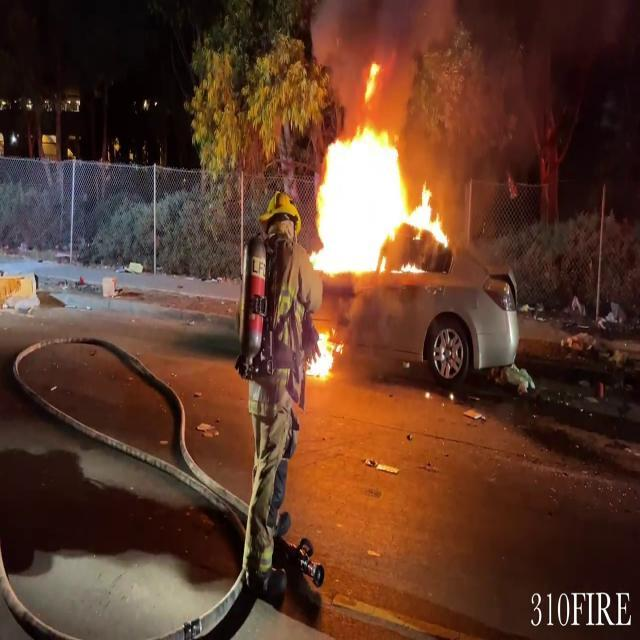Fire: (308, 99, 452, 277), (308, 320, 344, 386)
